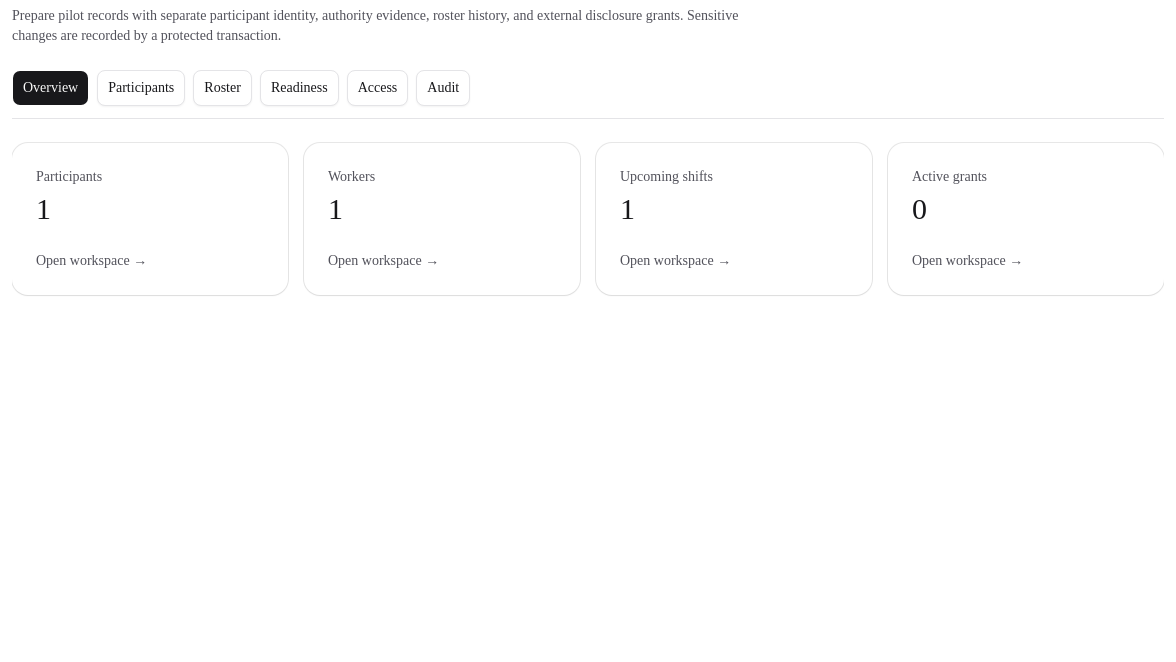
mounted AdminWorkspace — complete provider readiness surface › renders clearance expiry and pathway validity windows in the audit card
The width and height of the screenshot is (1176, 662).
Click the button "Readiness" at (299, 88), box [260, 70, 339, 106]
(page scrolled)
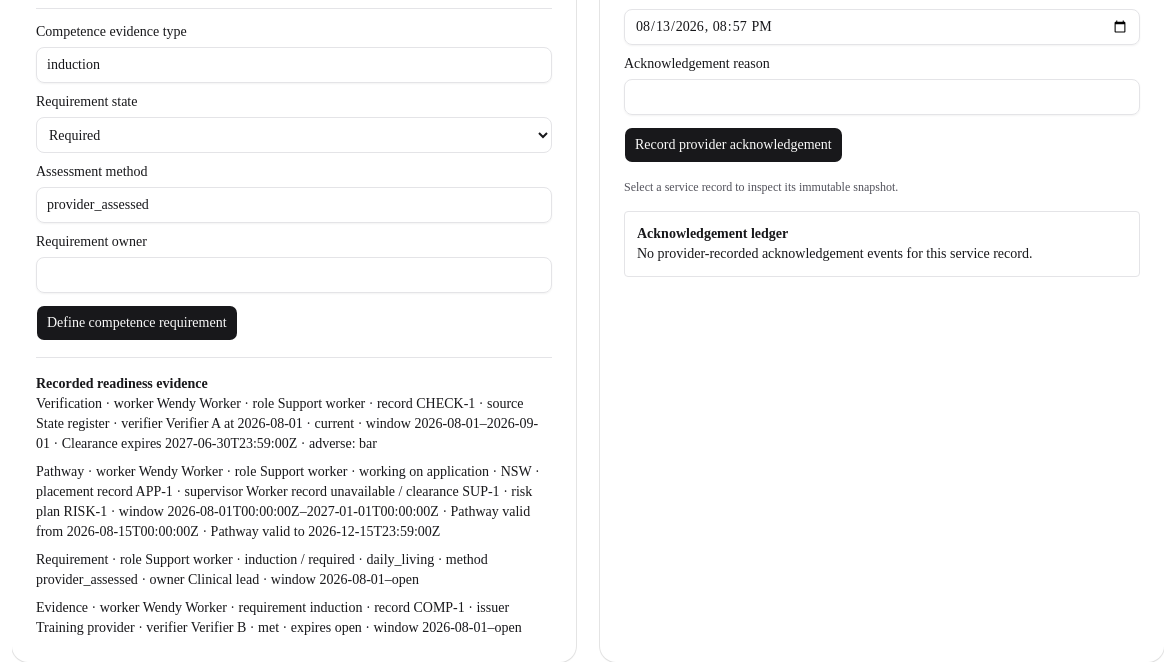
Expected: the text "Clearance expires 2027-06-30T23:59:00Z" is shown, [36, 394, 552, 454]
Expected: the text "Pathway valid to 2026-12-15T23:59:00Z" is shown, [36, 462, 552, 542]
